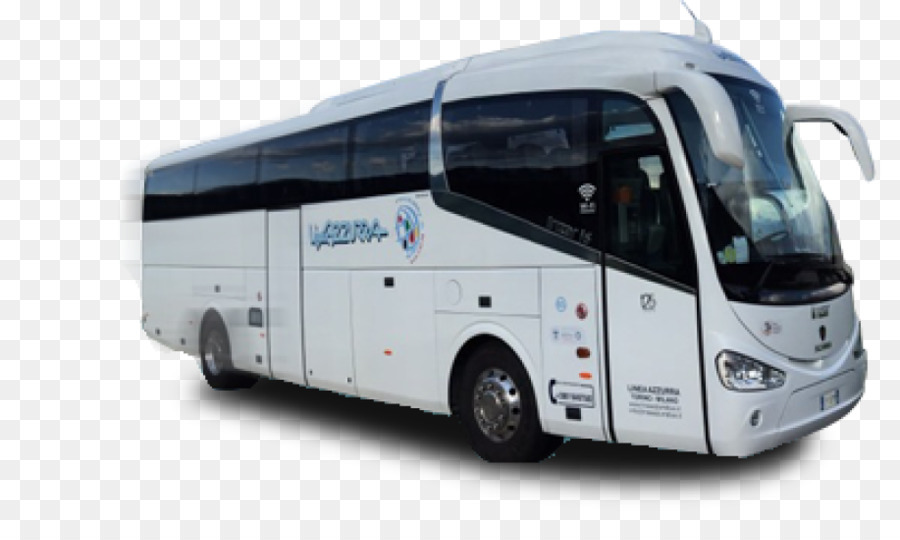bus: (135, 28, 870, 461)
